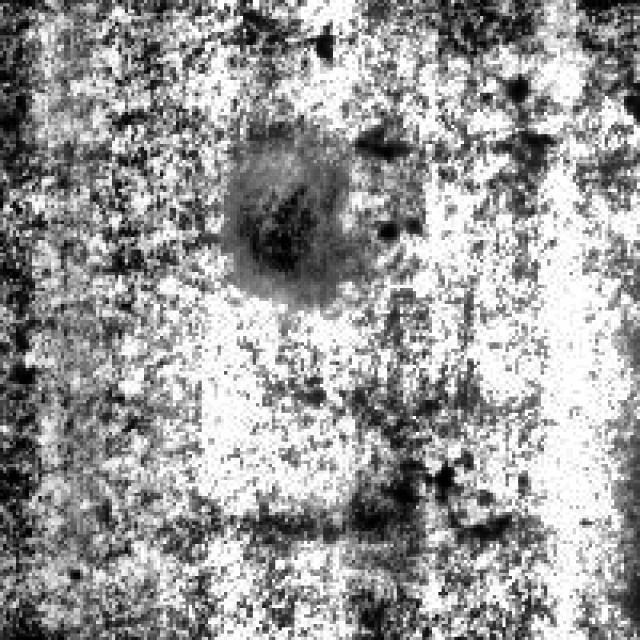Scratches: (214, 147, 340, 307)
